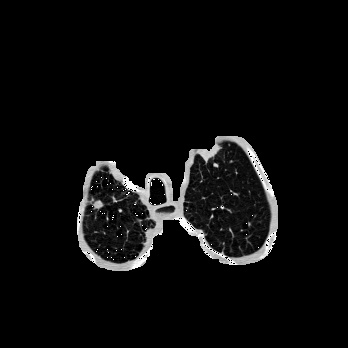PN: (92, 199, 102, 209)
